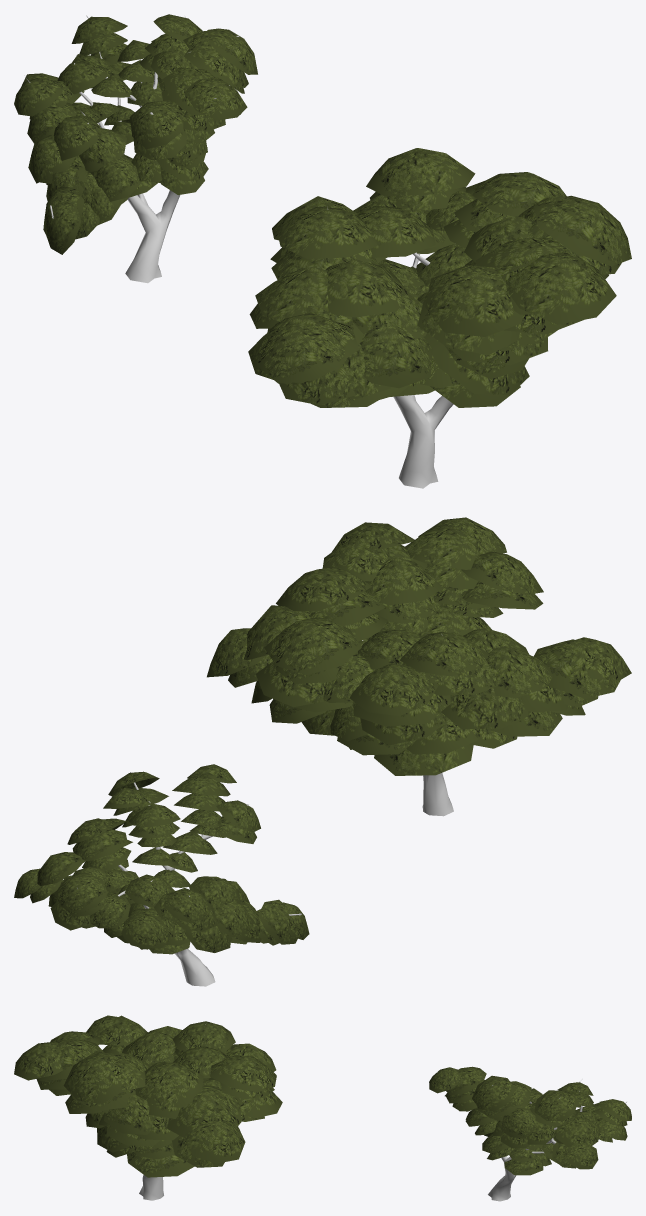
File: uploads_files_967567_UclaTrees_2Variations.FBX
The picture shows the model from 3 angles, top to bottom: view 1: azimuth 30°, elevation 25°; view 2: azimuth 150°, elevation 25°; view 3: azimuth 270°, elevation 25°; orthographic projection. The views are drawn at different scales.
Visible parts, largest first — view 1: UclaTreeLeaves, UclaTree2Leaves, UclaTreeTrunk, UclaTree2Trunk; view 2: UclaTreeLeaves, UclaTree2Leaves, UclaTree2Trunk, UclaTreeTrunk; view 3: UclaTreeLeaves, UclaTree2Leaves, UclaTree2Trunk, UclaTreeTrunk.
Part boxes in pixels (left/top/right/bottom): UclaTreeLeaves: left=248, top=148, right=631, bottom=407; UclaTree2Leaves: left=14, top=14, right=257, bottom=254; UclaTreeTrunk: left=327, top=207, right=453, bottom=488; UclaTree2Trunk: left=25, top=15, right=239, bottom=283; UclaTreeLeaves: left=207, top=517, right=631, bottom=775; UclaTree2Leaves: left=14, top=764, right=309, bottom=954; UclaTree2Trunk: left=63, top=766, right=301, bottom=986; UclaTreeTrunk: left=362, top=634, right=453, bottom=816; UclaTreeLeaves: left=14, top=1015, right=282, bottom=1177; UclaTree2Leaves: left=429, top=1066, right=631, bottom=1175; UclaTree2Trunk: left=436, top=1072, right=626, bottom=1201; UclaTreeTrunk: left=139, top=1024, right=205, bottom=1200.
Size of the model in its own units: 361 by 236 by 759.
